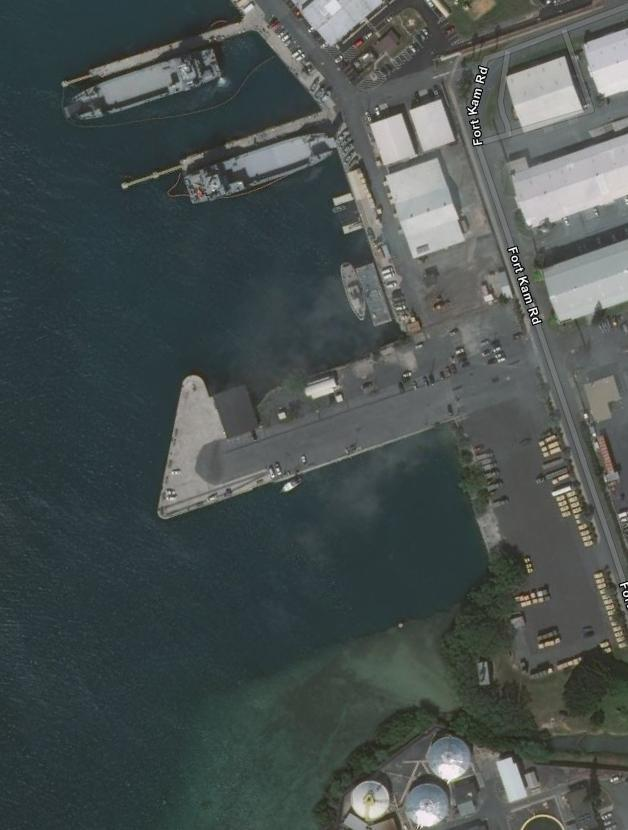barge: (63, 42, 225, 132), (179, 127, 341, 209)
